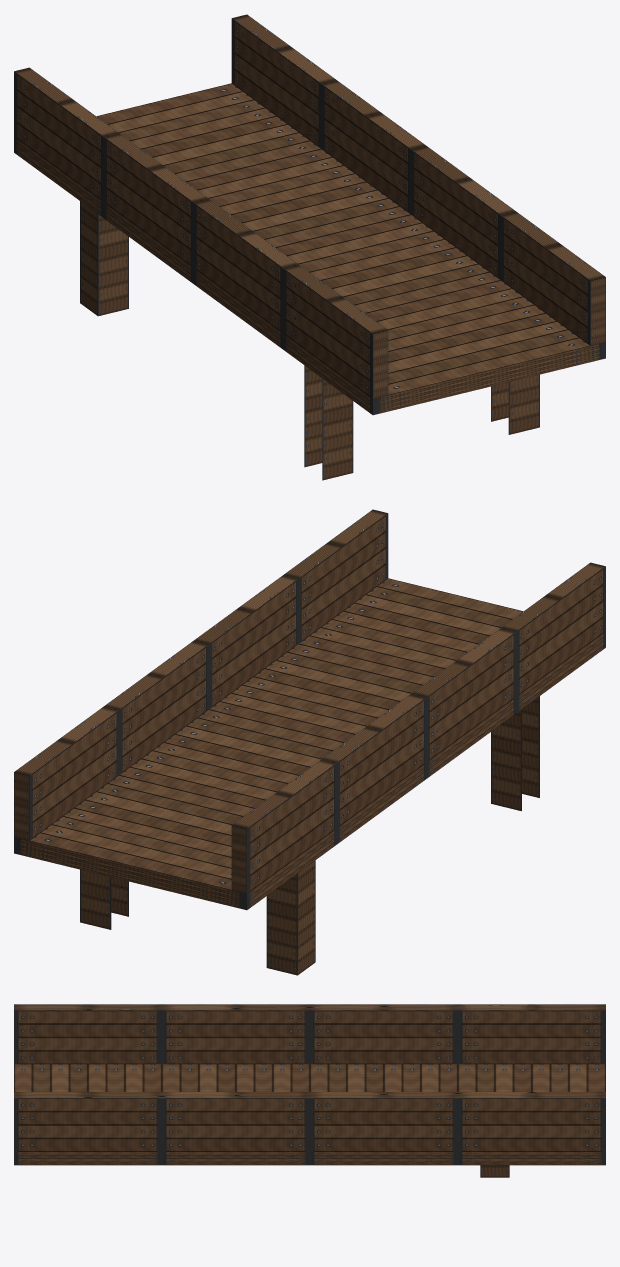
Rendered from bridge.obj.
3 renders of one model, top to bottom at view 1: azimuth 30°, elevation 25°; view 2: azimuth 150°, elevation 25°; view 3: azimuth 270°, elevation 25°, orthographic. The views are drawn at different scales.
Parts seen in each view (by area): view 1: WoodenBridge; view 2: WoodenBridge; view 3: WoodenBridge.
Boxes of the visible parts, x1=… form: WoodenBridge: x1=14, y1=14, x2=605, y2=480; WoodenBridge: x1=14, y1=509, x2=605, y2=975; WoodenBridge: x1=14, y1=1004, x2=605, y2=1177.
Size of the model in its own units: 3 by 2.35 by 8.
3 materials, 3 textured.
